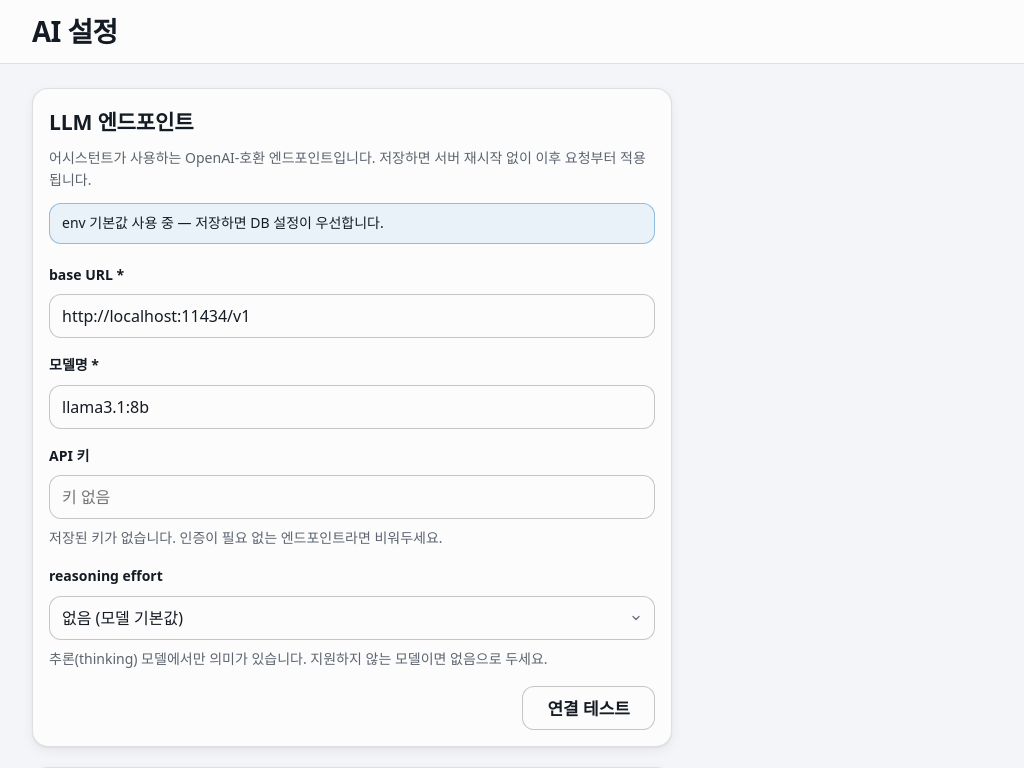
Test: AiConfigPanel › 연결 테스트 실패 사유를 인라인으로 보여준다
expect the field labelled "base URL *" is shown: met, box [49, 294, 655, 338]
Click the button "연결 테스트".
click(589, 708)  # box [522, 686, 655, 730]
(page scrolled)
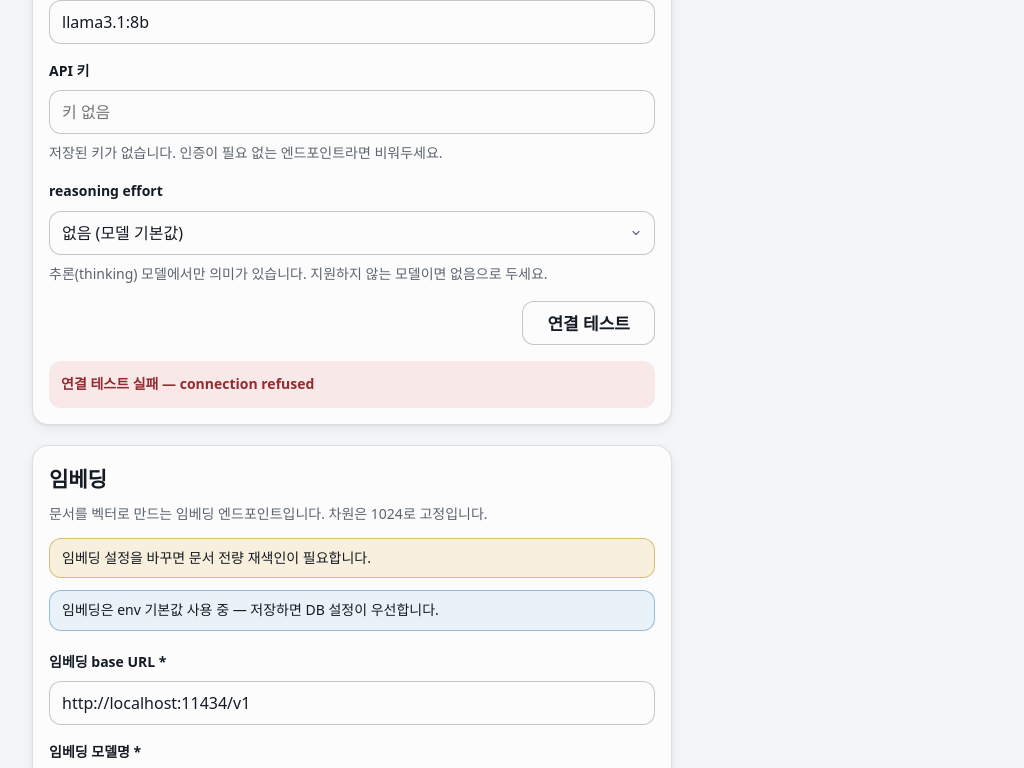
expect the text "연결 테스트 실패 — connection refused" is shown: met, box [49, 361, 655, 408]
